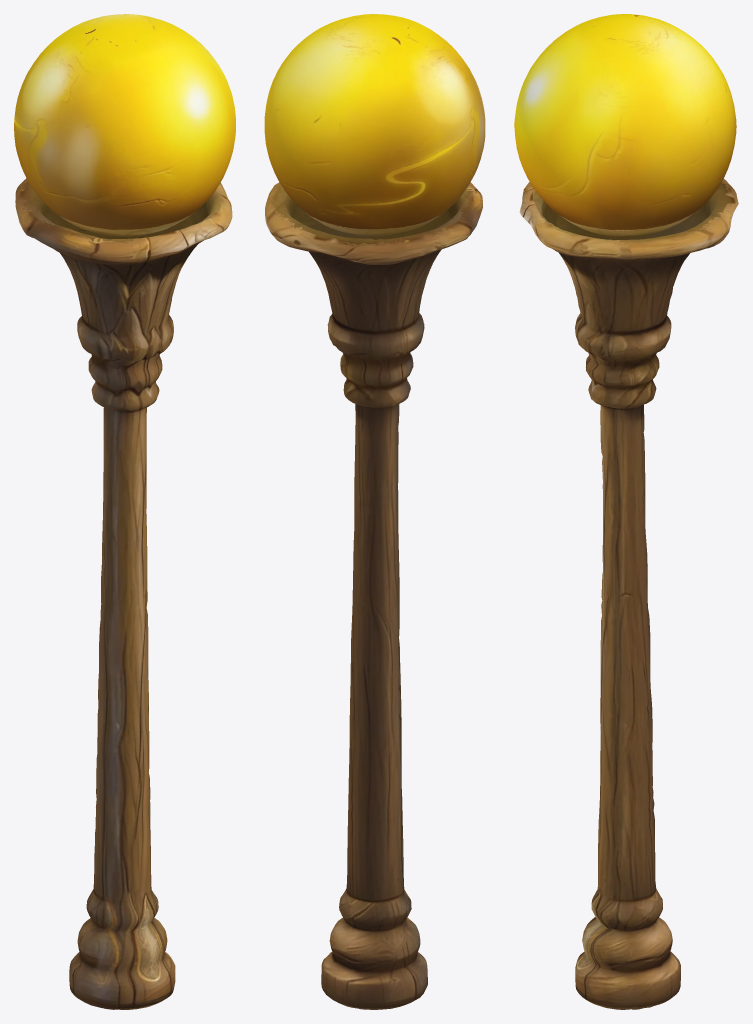
The model's file is celestial-lightbringer.glb.
3 renders of one model, left to right at view 1: azimuth 30°, elevation 25°; view 2: azimuth 150°, elevation 25°; view 3: azimuth 270°, elevation 25°, orthographic.
Bounding box in the file's own units: 0.3705 × 1.76 × 0.3704.
Materials: 1 (1 with a texture image).
